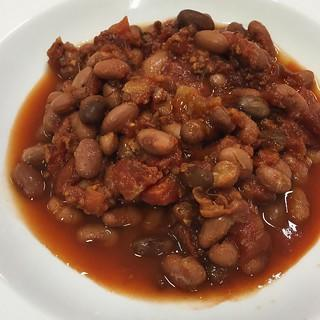RajmaCurry: (15, 8, 320, 298)
